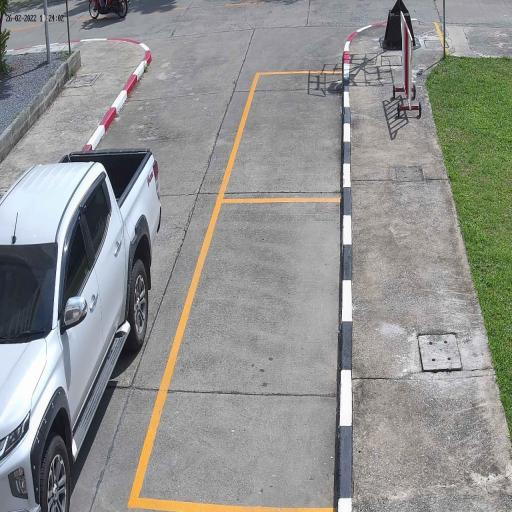car: (0, 145, 164, 512)
